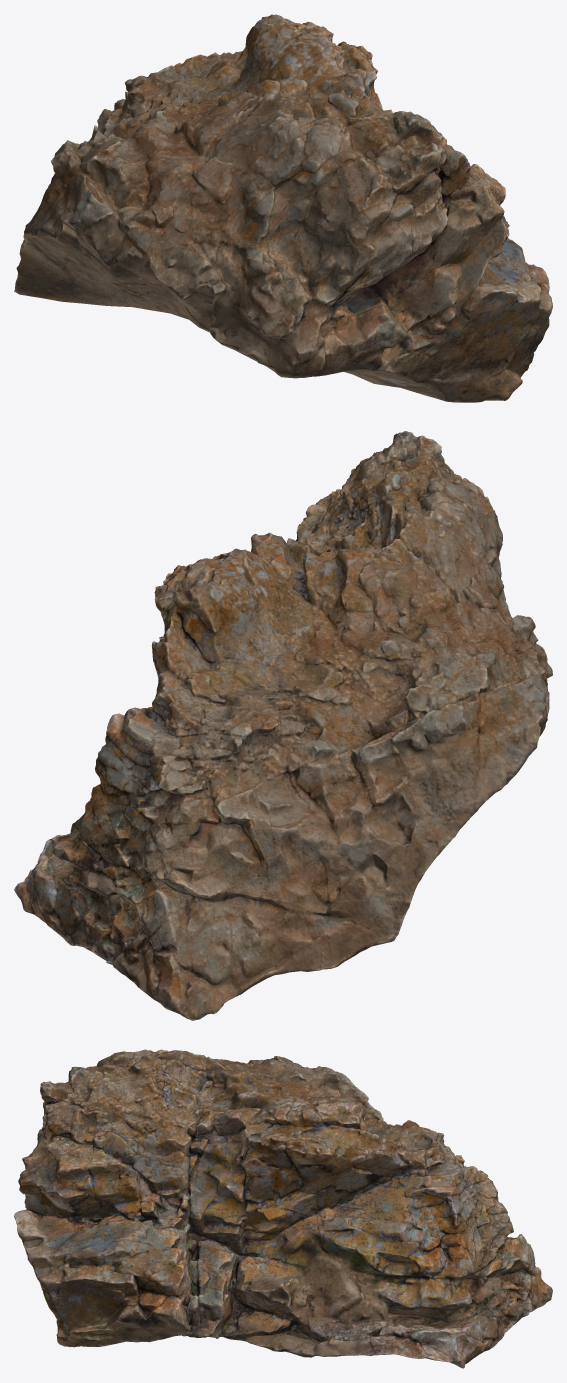
Rendered from boulder_01_1k.glb.
3 views of the same model, one above another, from view 1: azimuth 30°, elevation 25°; view 2: azimuth 150°, elevation 25°; view 3: azimuth 270°, elevation 25° (orthographic). The views are drawn at different scales.
Visible parts, largest first — view 1: boulder_01; view 2: boulder_01; view 3: boulder_01.
Boxes of the visible parts, left/top/right/bottom form: boulder_01: left=14, top=14, right=552, bottom=402; boulder_01: left=14, top=431, right=552, bottom=1020; boulder_01: left=14, top=1049, right=552, bottom=1368.
Bounding box in the file's own units: 1.27 × 1 × 1.83.
Materials: 1 (1 with a texture image).
